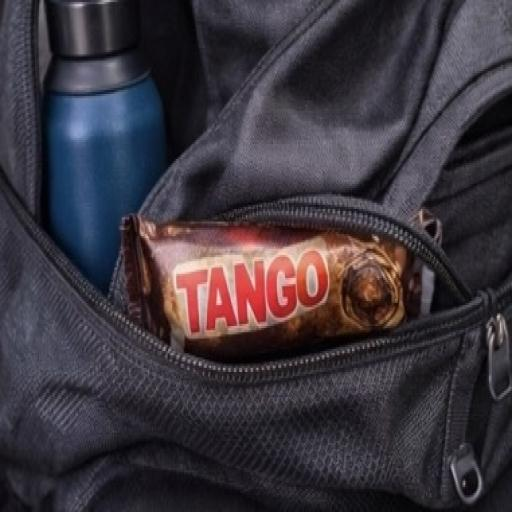tango: (73, 168, 450, 402)
